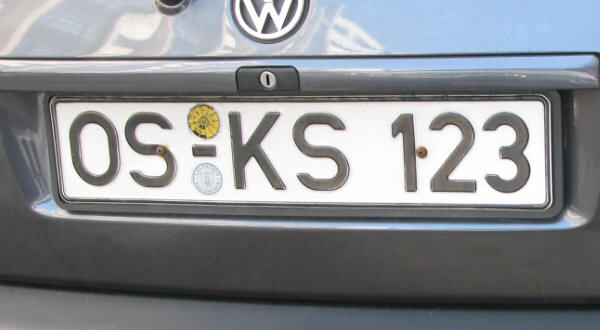license_plate: (50, 94, 551, 206)
